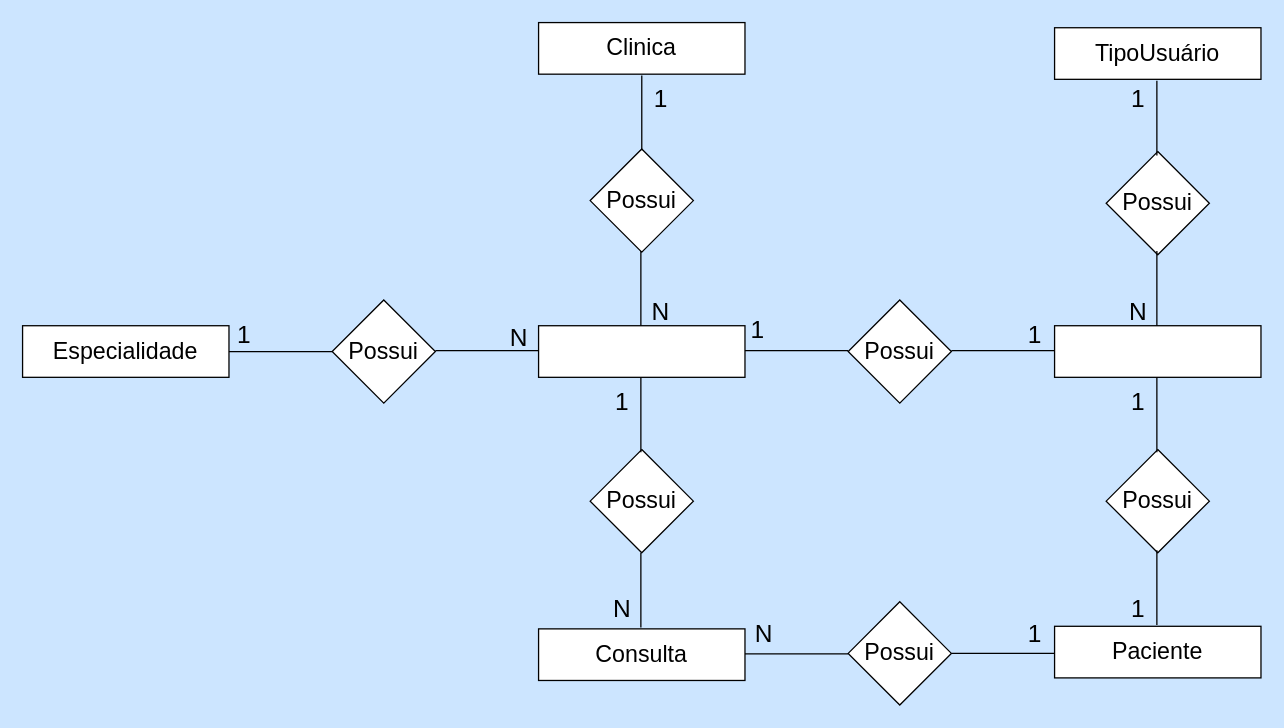
This 1284x728 diagram has some shape labels left out. Here are the shapes that lost their labels. From the top down, the centre of each, then its label:
the point at 641,350: Médico
the point at 1157,350: Usuário
